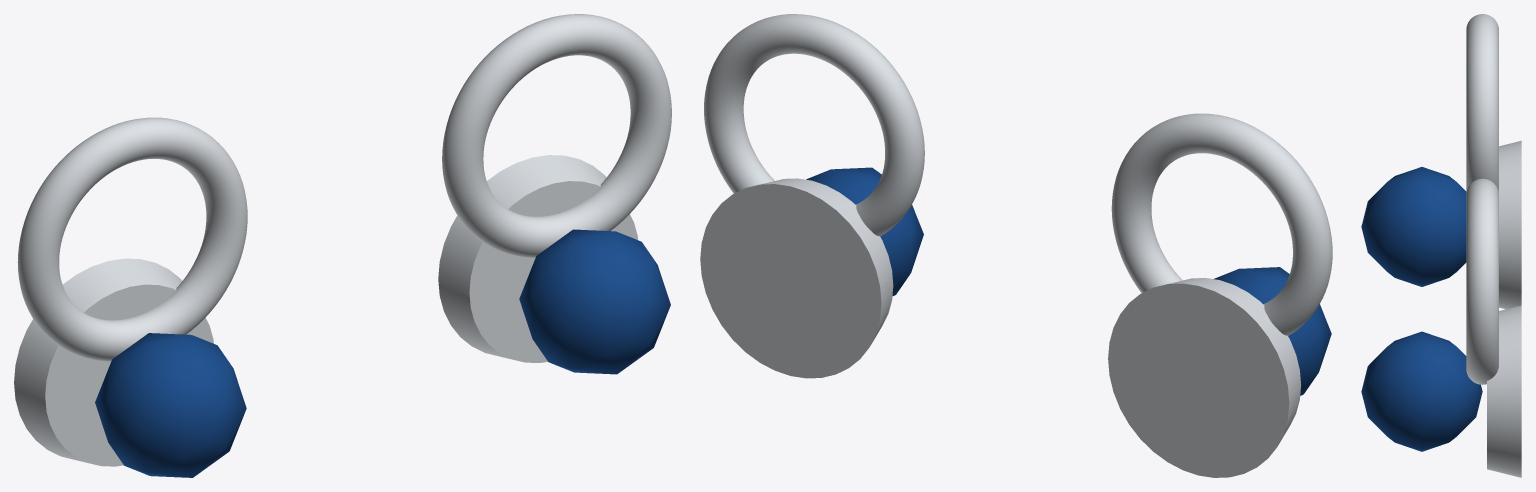
The model's file is iris-sapphire-huggies.glb.
The picture shows the model from 3 angles, left to right: view 1: azimuth 30°, elevation 25°; view 2: azimuth 150°, elevation 25°; view 3: azimuth 270°, elevation 25°; orthographic projection. The views are drawn at different scales.
Parts seen in each view (by area): view 1: earring_top (×2), stud_gem (×2), stud_base (×2); view 2: stud_base (×2), earring_top (×2), stud_gem (×2); view 3: stud_gem (×2), earring_top (×2), stud_base (×2).
Boxes of the visible parts, <box> form: earring_top (×2): <box>17,14,671,361</box>; stud_gem (×2): <box>95,229,670,477</box>; stud_base (×2): <box>14,155,637,466</box>; stud_base (×2): <box>700,178,1301,477</box>; earring_top (×2): <box>704,14,1332,335</box>; stud_gem (×2): <box>806,167,1331,395</box>; stud_gem (×2): <box>1361,167,1482,451</box>; earring_top (×2): <box>1466,14,1498,384</box>; stud_base (×2): <box>1487,140,1521,477</box>.
Bounding box in the file's own units: 1.38 × 0.718 × 0.37.
